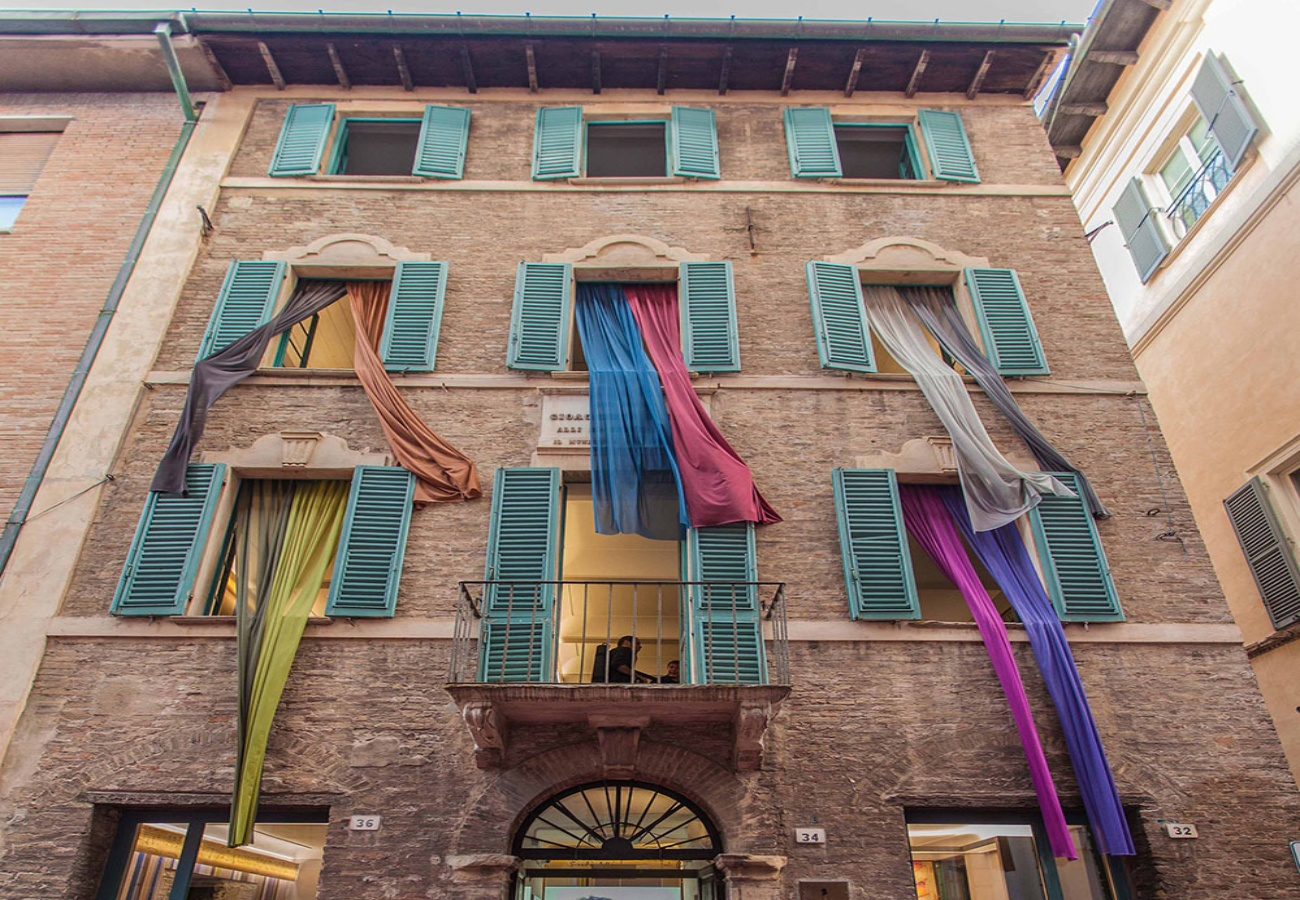Casa Rossini: (79, 1, 1230, 891)
